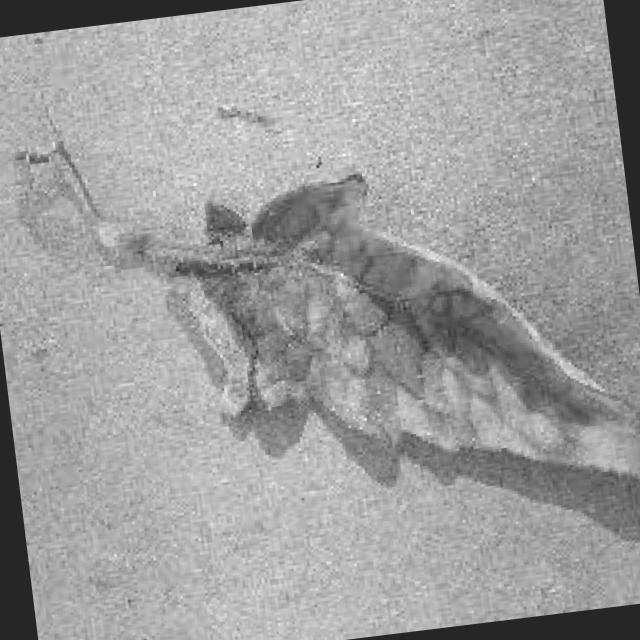leaf mold: (65, 144, 640, 488)
